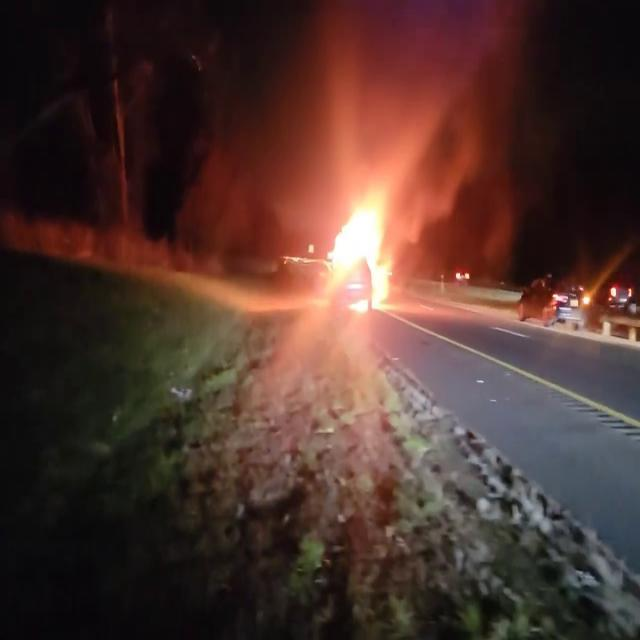Fire: (318, 182, 402, 310)
Smoke: (222, 1, 536, 219)
